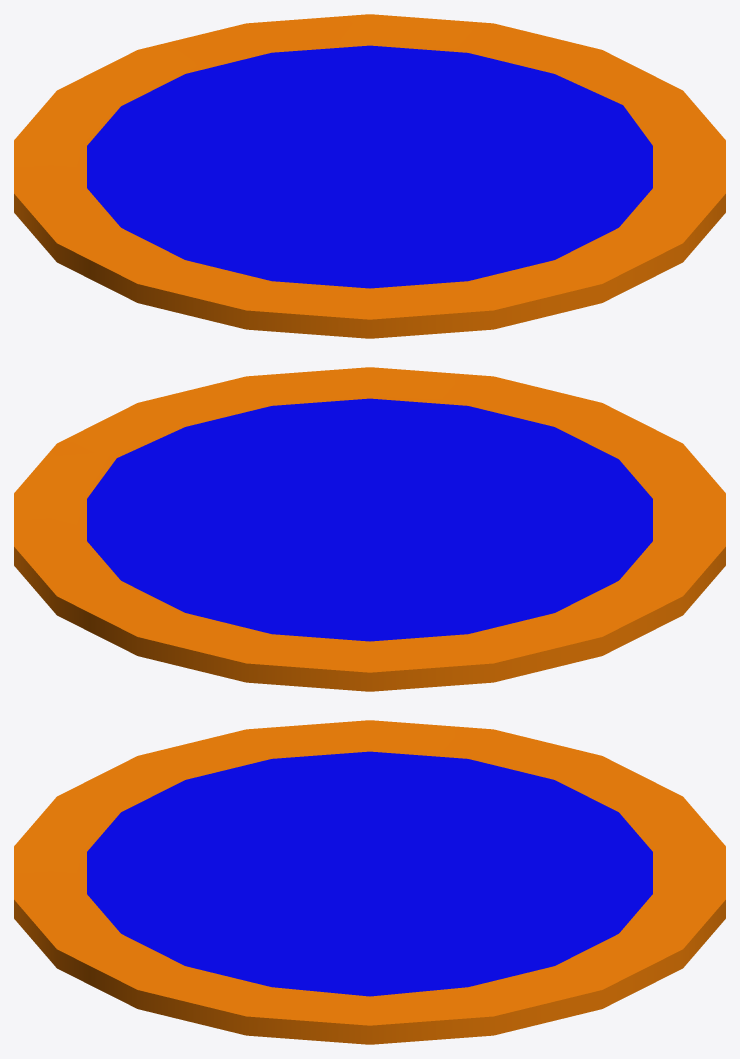
Rendered from Correct number coin.FBX.
3 renders of one model, top to bottom at view 1: azimuth 30°, elevation 25°; view 2: azimuth 150°, elevation 25°; view 3: azimuth 270°, elevation 25°, orthographic.
Visible parts, largest first — view 1: Cylinder001; view 2: Cylinder001; view 3: Cylinder001.
Boxes of the visible parts, bbox=[...] form: Cylinder001: bbox=[14, 14, 725, 338]; Cylinder001: bbox=[14, 367, 725, 691]; Cylinder001: bbox=[14, 720, 725, 1044].
Bounding box in the file's own units: 36.19 × 1.06 × 35.64.
